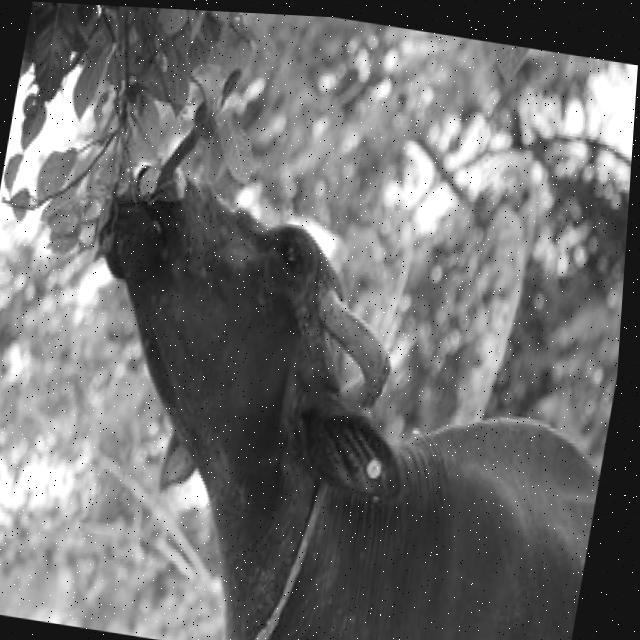Buffalo: (26, 145, 631, 640)
